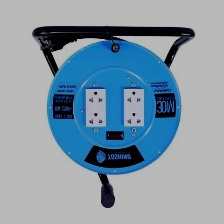three_eye_plug: (44, 37, 183, 179)
